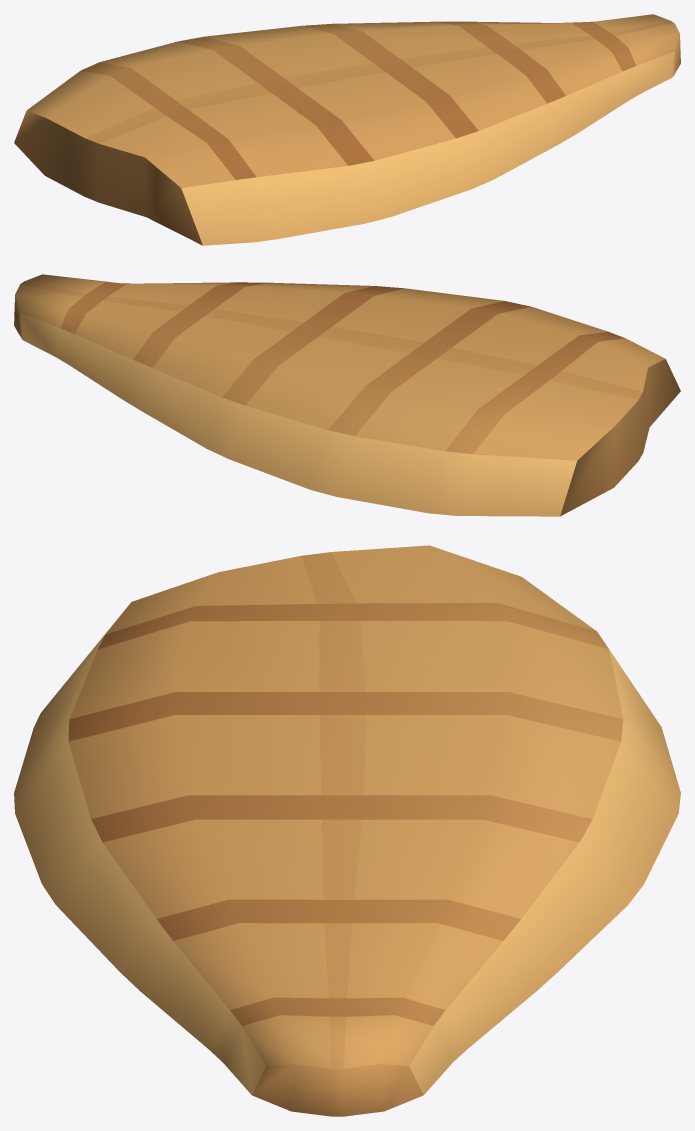
File: Halibut_Meat_03.glb
The picture shows the model from 3 angles, top to bottom: view 1: azimuth 30°, elevation 25°; view 2: azimuth 150°, elevation 25°; view 3: azimuth 270°, elevation 25°; orthographic projection. The views are drawn at different scales.
Visible parts, largest first — view 1: Halibut_Meat_03; view 2: Halibut_Meat_03; view 3: Halibut_Meat_03.
Part boxes in pixels (x1=…): Halibut_Meat_03: x1=14, y1=14, x2=680, y2=245; Halibut_Meat_03: x1=14, y1=274, x2=680, y2=516; Halibut_Meat_03: x1=14, y1=545, x2=680, y2=1116.
Size of the model in its own units: 0.6216 by 0.0647 by 0.3685.
1 material, 1 textured.
